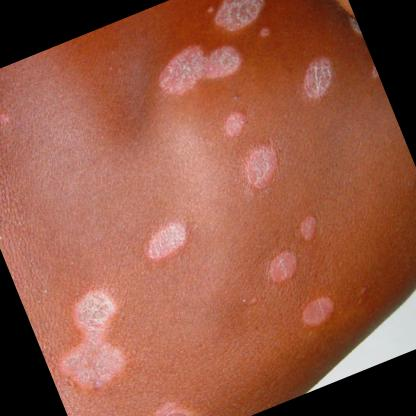Psoriasis: (34, 274, 156, 404), (141, 26, 252, 107), (126, 208, 206, 272), (228, 132, 298, 200), (288, 46, 348, 110), (256, 241, 312, 294), (204, 0, 279, 37), (292, 284, 343, 332), (139, 387, 204, 416), (215, 102, 255, 143), (292, 209, 328, 247)
